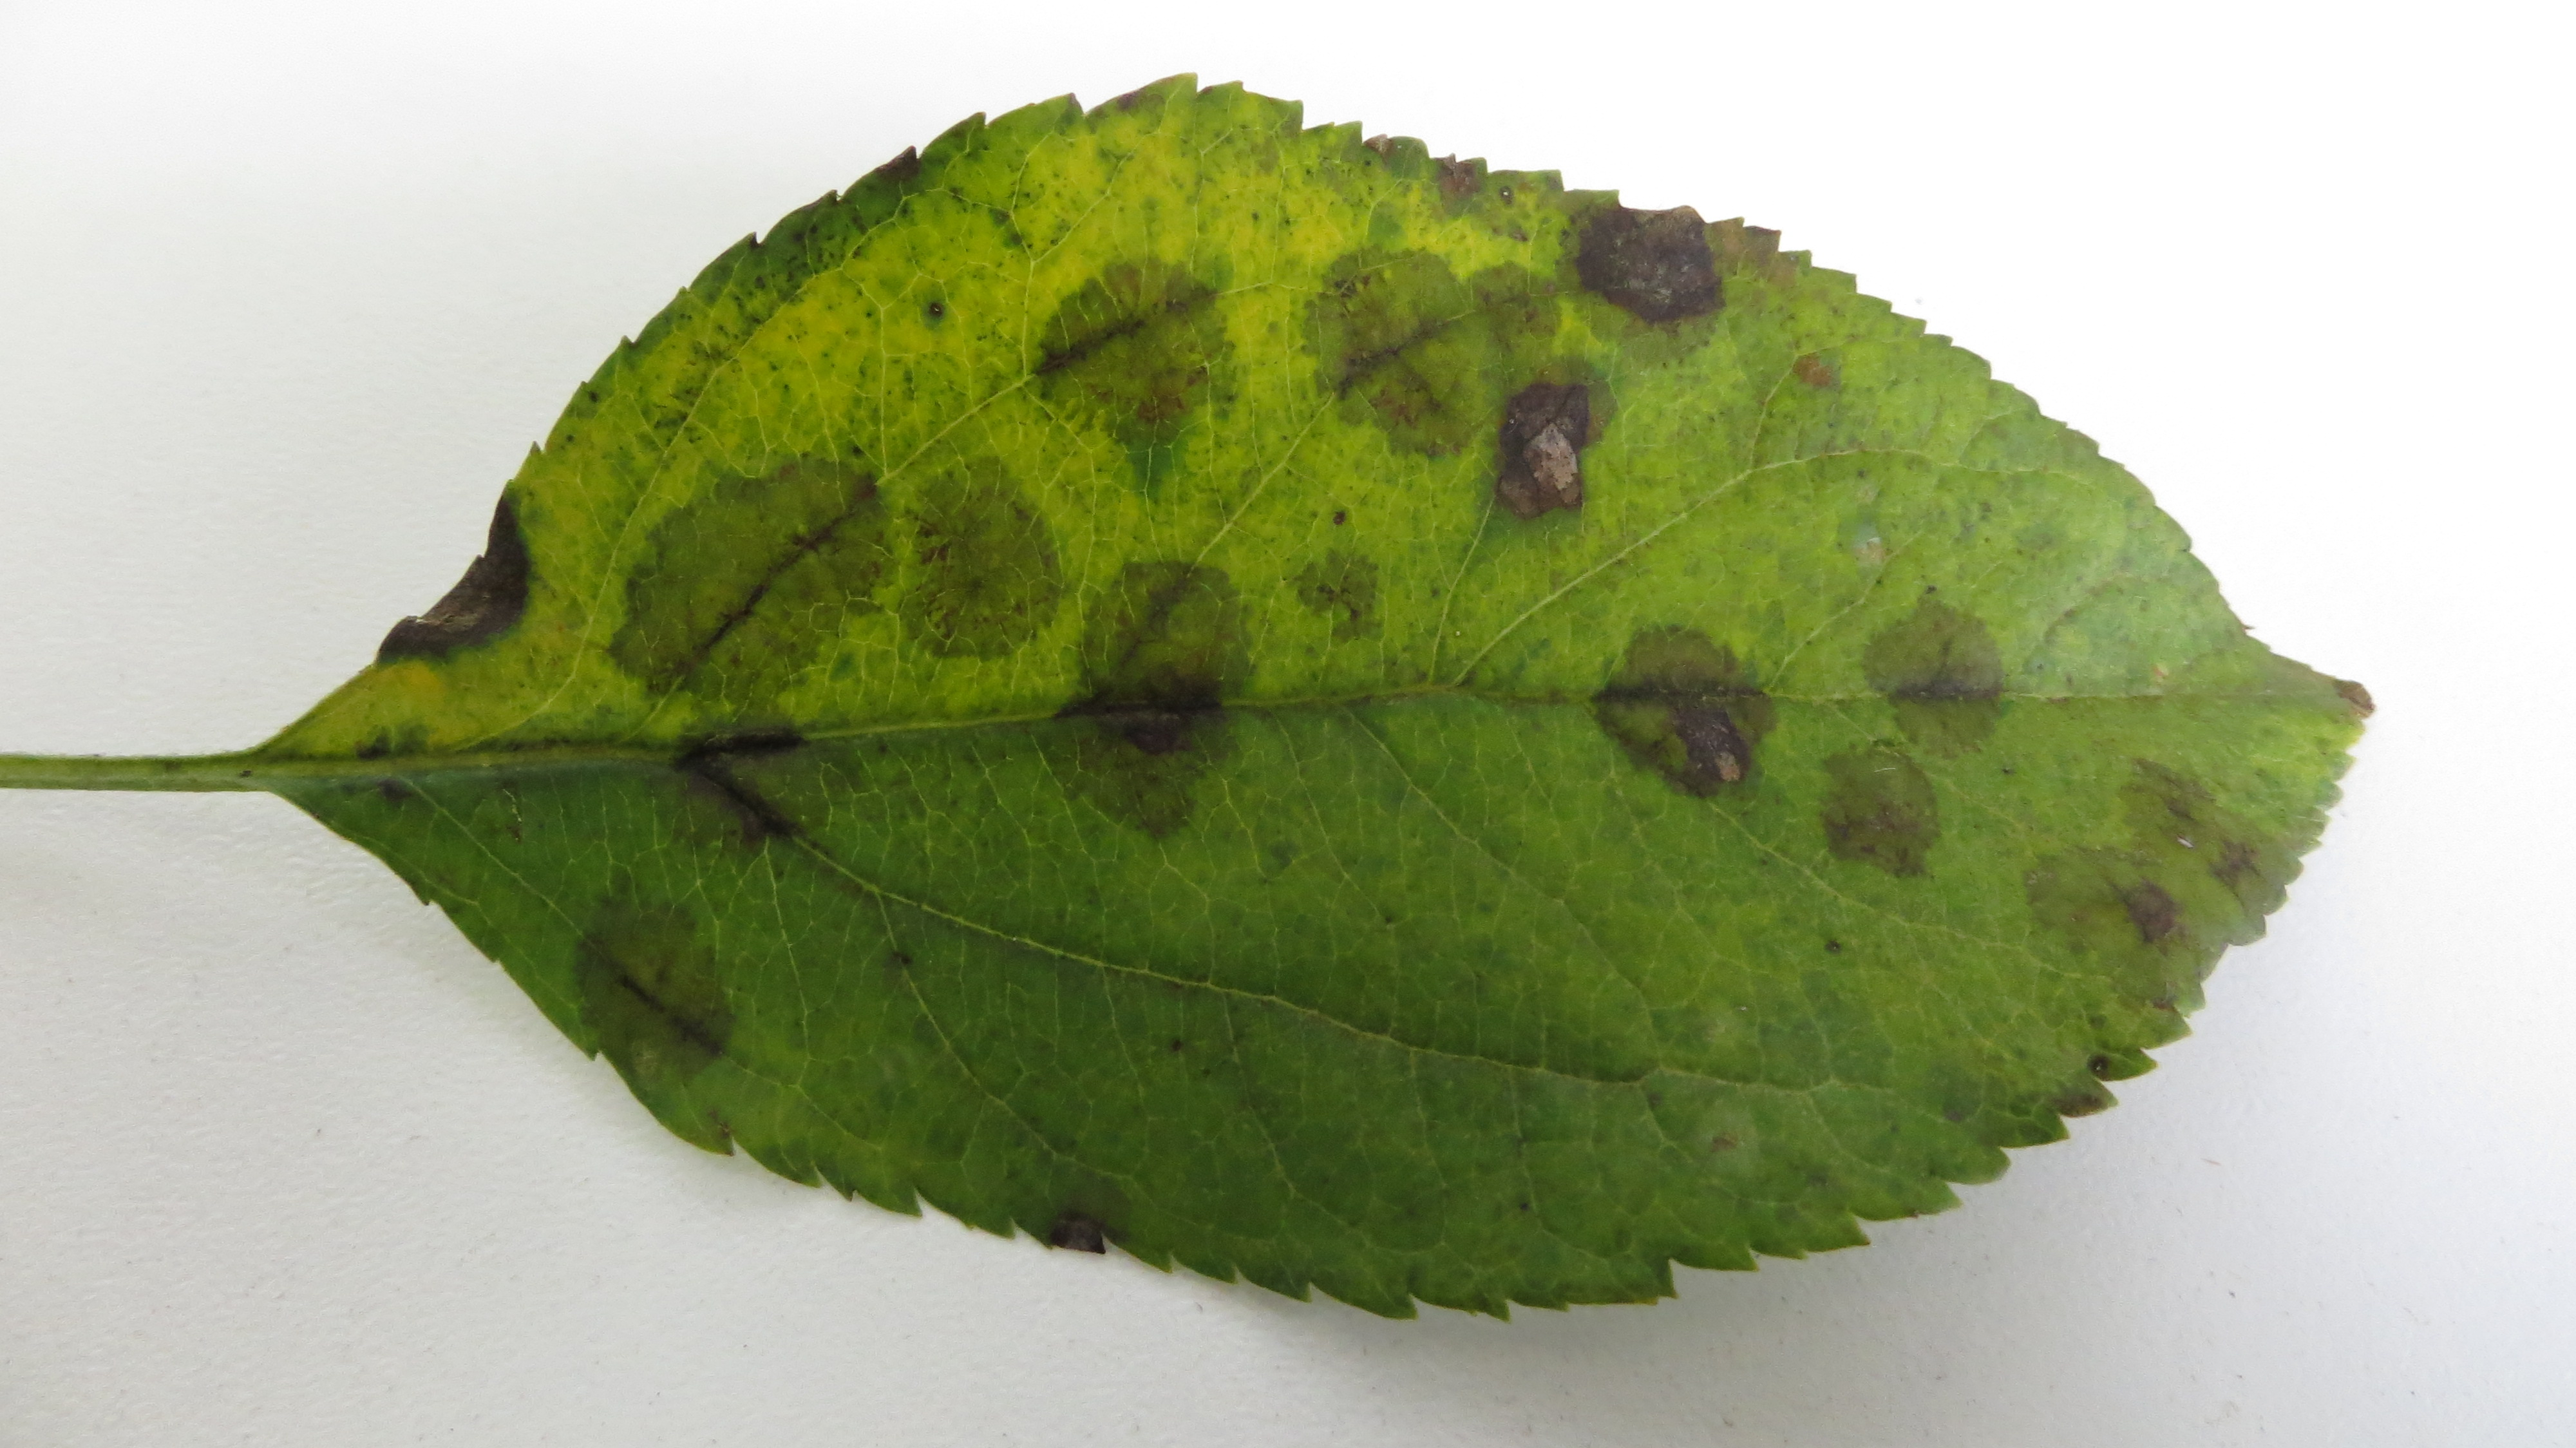sarna: (619, 455, 893, 696), (1044, 561, 1249, 832), (1030, 253, 1246, 471), (1315, 253, 1490, 464), (893, 457, 1069, 662), (1582, 621, 1775, 800), (563, 880, 738, 1076), (1856, 595, 2019, 765), (1552, 195, 1734, 343), (1476, 366, 1622, 513), (1805, 740, 1948, 873), (1476, 246, 1585, 368), (665, 763, 800, 862), (453, 476, 541, 625), (1281, 535, 1391, 643), (678, 703, 810, 774), (370, 600, 488, 676), (2022, 841, 2114, 936), (2116, 749, 2212, 839), (343, 719, 430, 816), (2180, 821, 2275, 906), (2040, 1032, 2127, 1122), (1714, 216, 1799, 306), (1035, 1181, 1120, 1262), (863, 140, 948, 220), (2114, 963, 2197, 1039), (2296, 666, 2385, 731), (1414, 145, 1488, 216), (1776, 343, 1854, 411), (2109, 878, 2185, 945), (1352, 115, 1410, 177)
